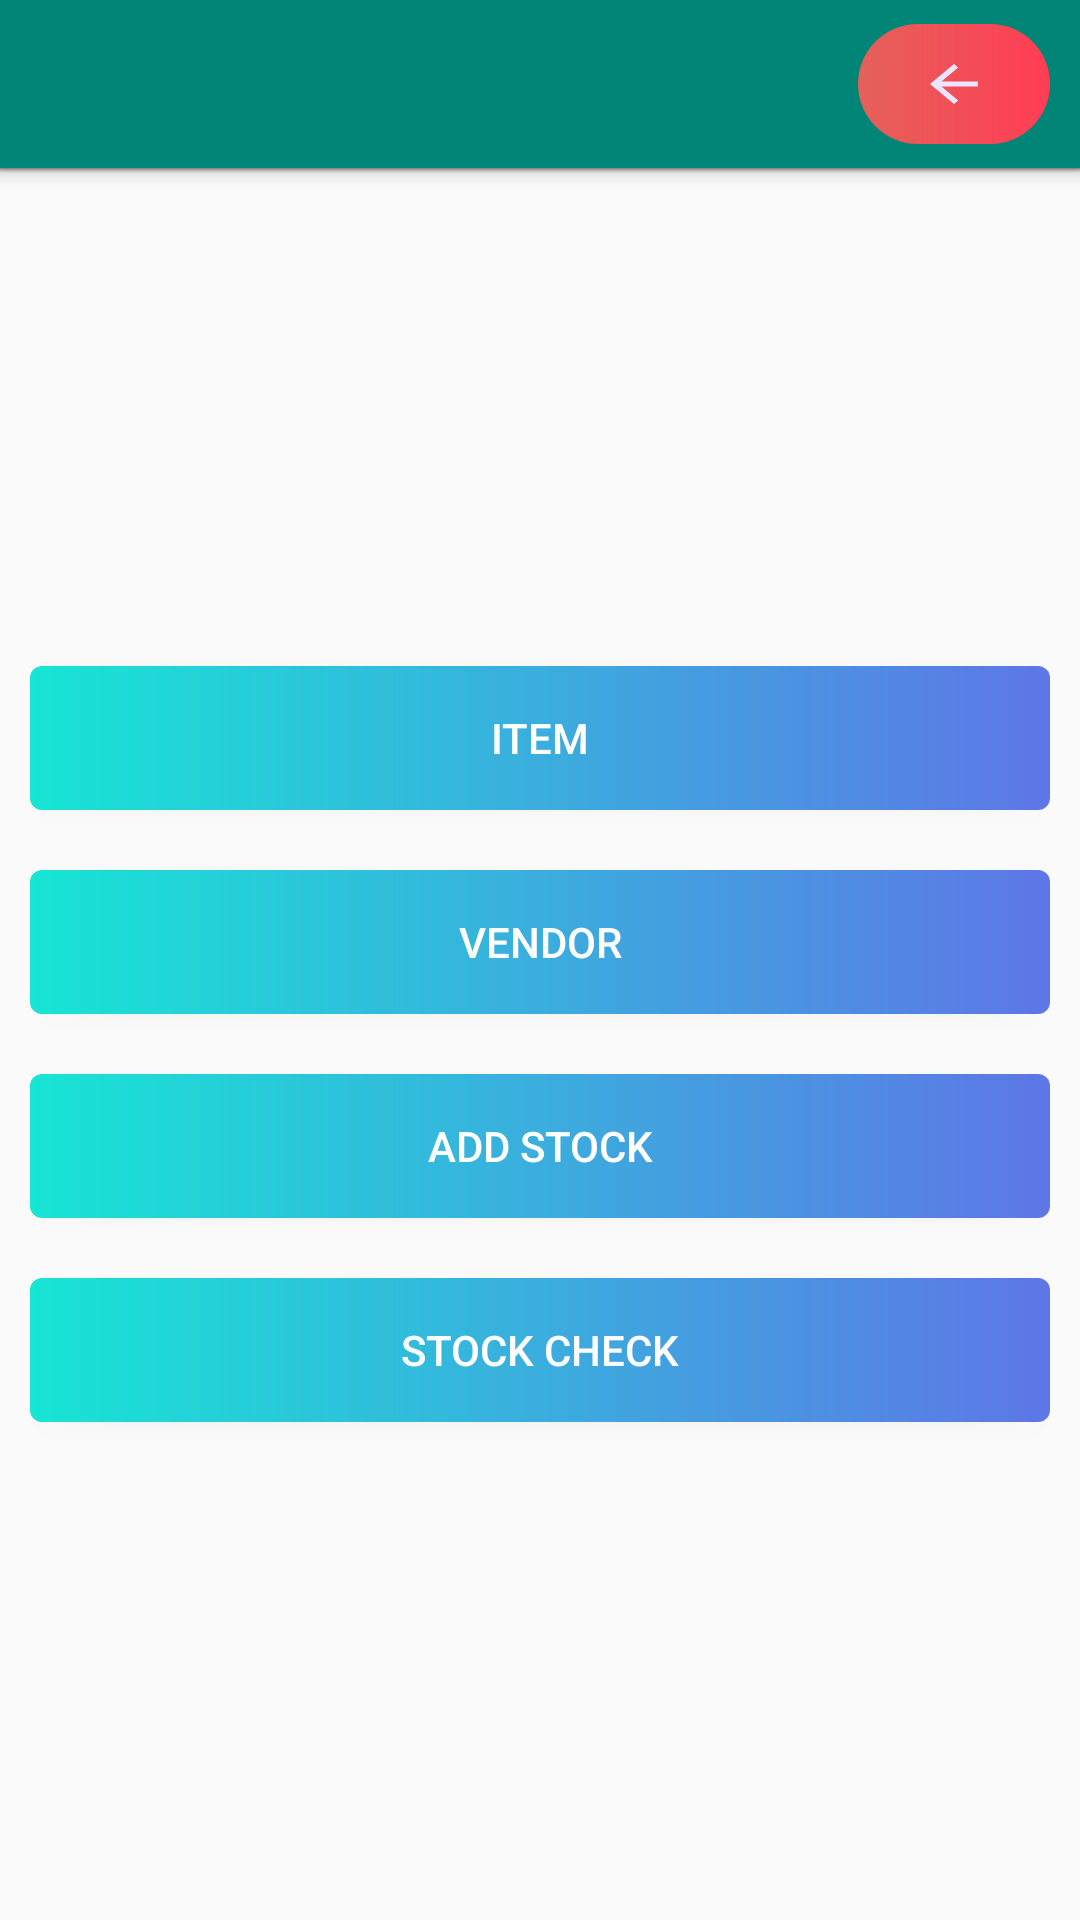

Icon bounding boxes for this 1080*1920 phone screenshot, format (x1,y1,x2,y2):
arrow back: (858,24,1050,144)
